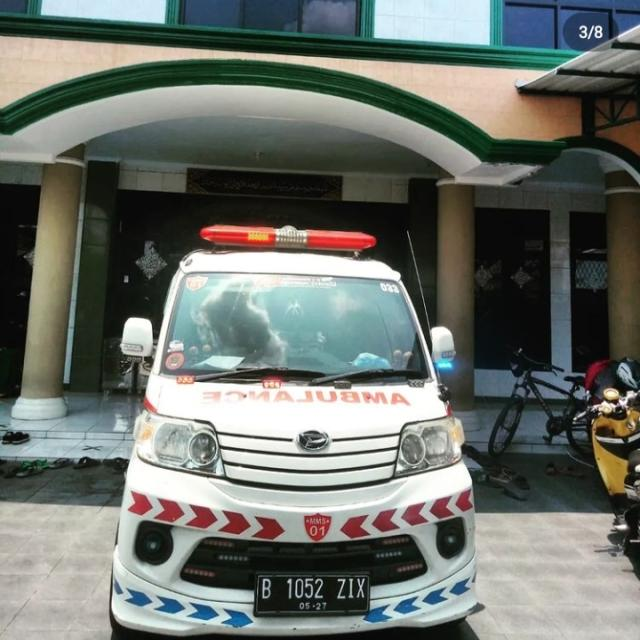emergency-vehicle: (105, 225, 485, 639)
